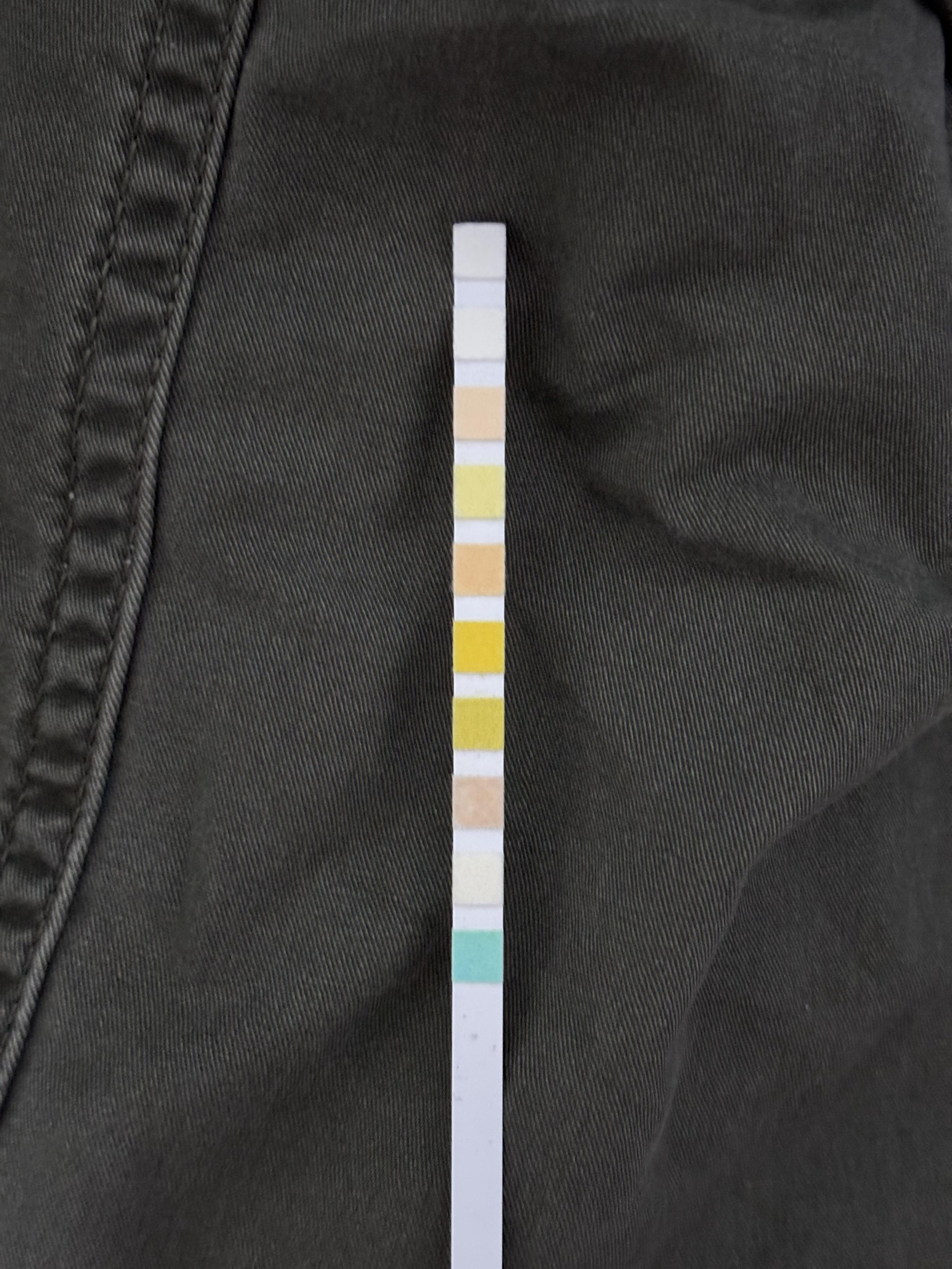Bilirubin: (455, 854, 503, 904)
Blood: (454, 624, 502, 671)
Glucose: (453, 932, 502, 982)
Ketone: (455, 779, 501, 827)
Leukocytes: (456, 229, 503, 276)
Nitrite: (456, 313, 504, 357)
Protein: (455, 468, 504, 516)
SpGravity: (454, 703, 503, 750)
Urobilinogen: (455, 391, 502, 437)
pH: (456, 547, 504, 594)
strip: (449, 222, 505, 1269)
